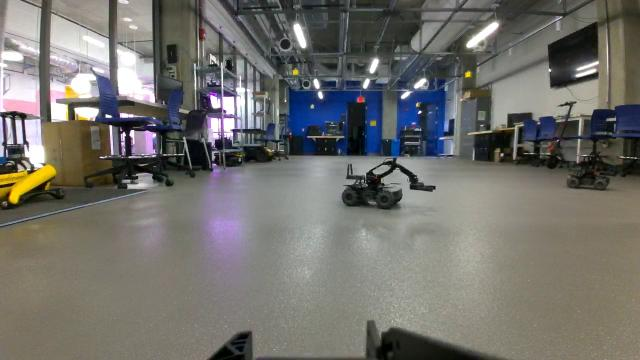robot: (338, 152, 442, 213)
